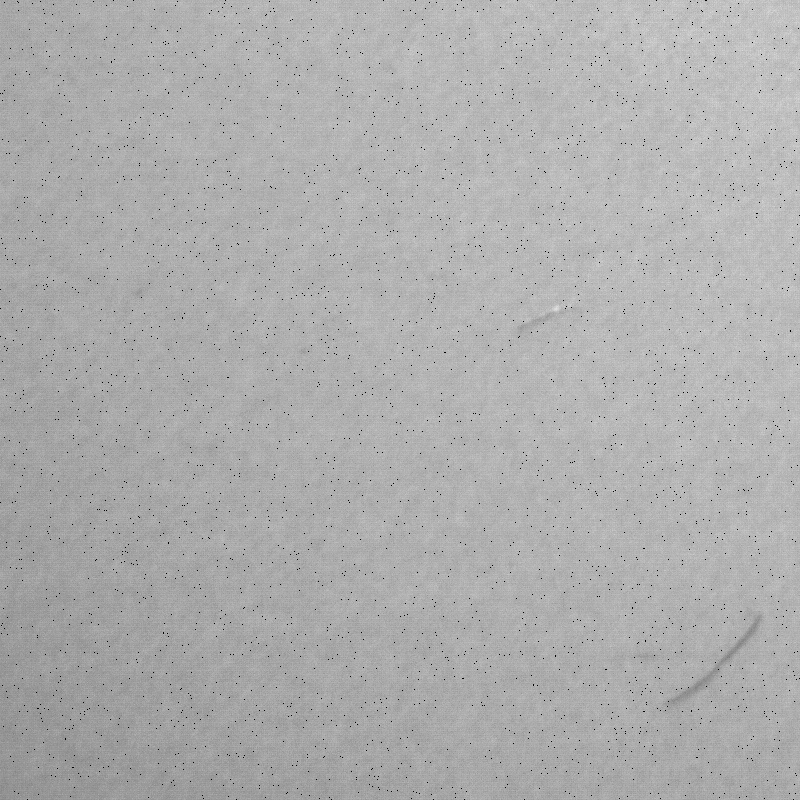defect: (660, 606, 765, 712), (506, 295, 589, 339)
